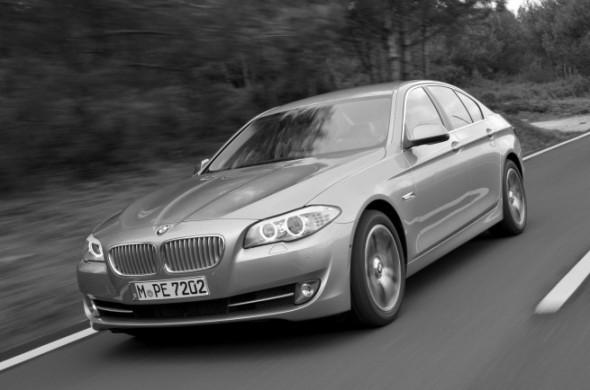car: (77, 80, 530, 340)
